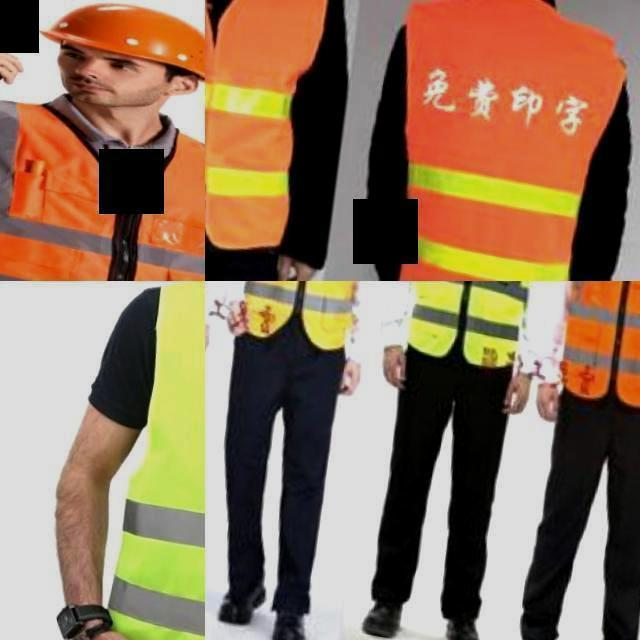vest: (372, 0, 625, 281), (90, 281, 205, 640), (0, 86, 205, 281), (205, 0, 336, 266), (402, 281, 548, 371), (552, 281, 640, 418), (225, 281, 382, 357)
